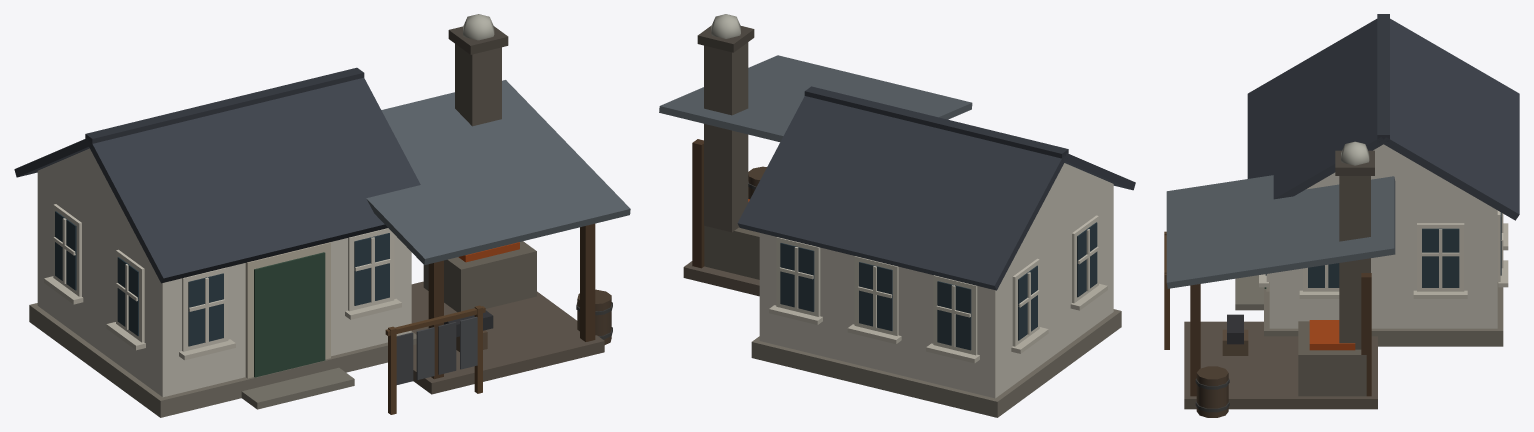
The model's file is procedural_smith@5.glb.
3 renders of one model, left to right at view 1: azimuth 30°, elevation 25°; view 2: azimuth 150°, elevation 25°; view 3: azimuth 270°, elevation 25°, orthographic. The views are drawn at different scales.
Parts seen in each view (by area): view 1: part_0, part_4; view 2: part_0, part_4; view 3: part_0, part_4.
Boxes of the visible parts, box(x1,y1,x2,y2) form: part_0: box(14, 26, 630, 417); part_4: box(463, 14, 494, 40); part_0: box(659, 25, 1135, 417); part_4: box(711, 14, 740, 38); part_0: box(1164, 14, 1519, 417); part_4: box(1341, 141, 1369, 165).
Size of the model in its own units: 7.9 by 4.89 by 6.24.
